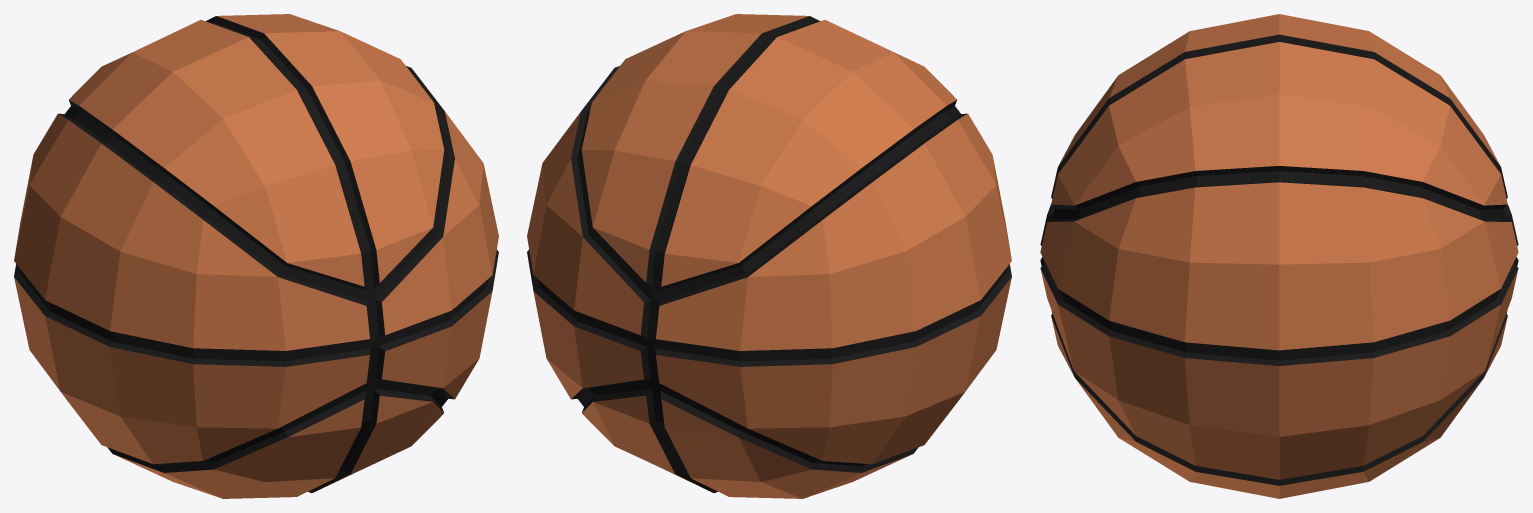
The model's file is Int_BasketBall01.fbx.
3 renders of one model, left to right at view 1: azimuth 30°, elevation 25°; view 2: azimuth 150°, elevation 25°; view 3: azimuth 270°, elevation 25°, orthographic.
Visible parts, largest first — view 1: Int_BasketBall01; view 2: Int_BasketBall01; view 3: Int_BasketBall01.
Part boxes in pixels (x1,y1,x2,y2): Int_BasketBall01: [14, 14, 498, 498]; Int_BasketBall01: [527, 14, 1011, 498]; Int_BasketBall01: [1040, 14, 1518, 498].
Size of what is drawn, in the model's own units: 30.4 by 30.18 by 30.4.
